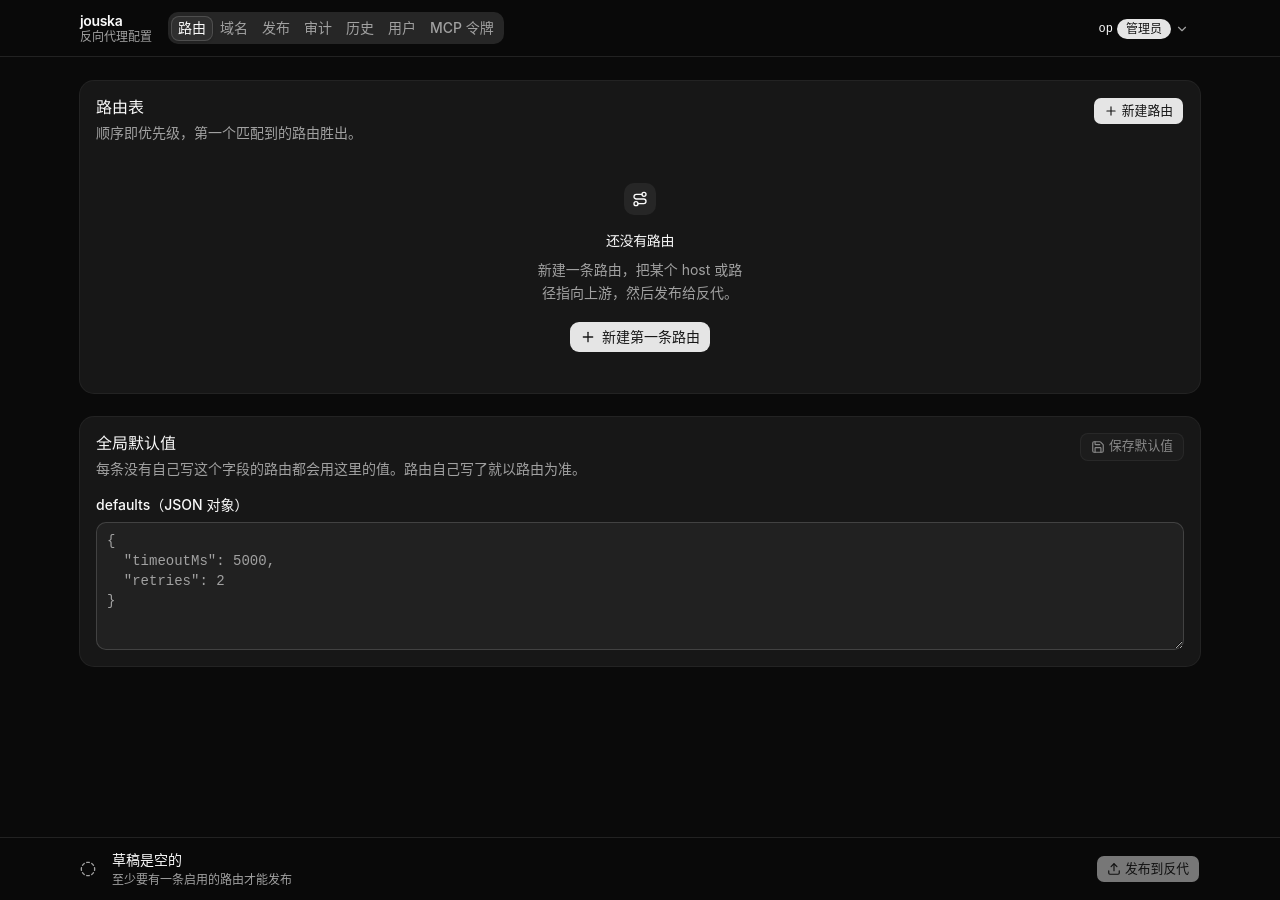
it: App › 账号菜单打得开，身份与退出登录都在里面
Click the button with aria-label "账号菜单": (1144, 28) [1088,14,1200,42]
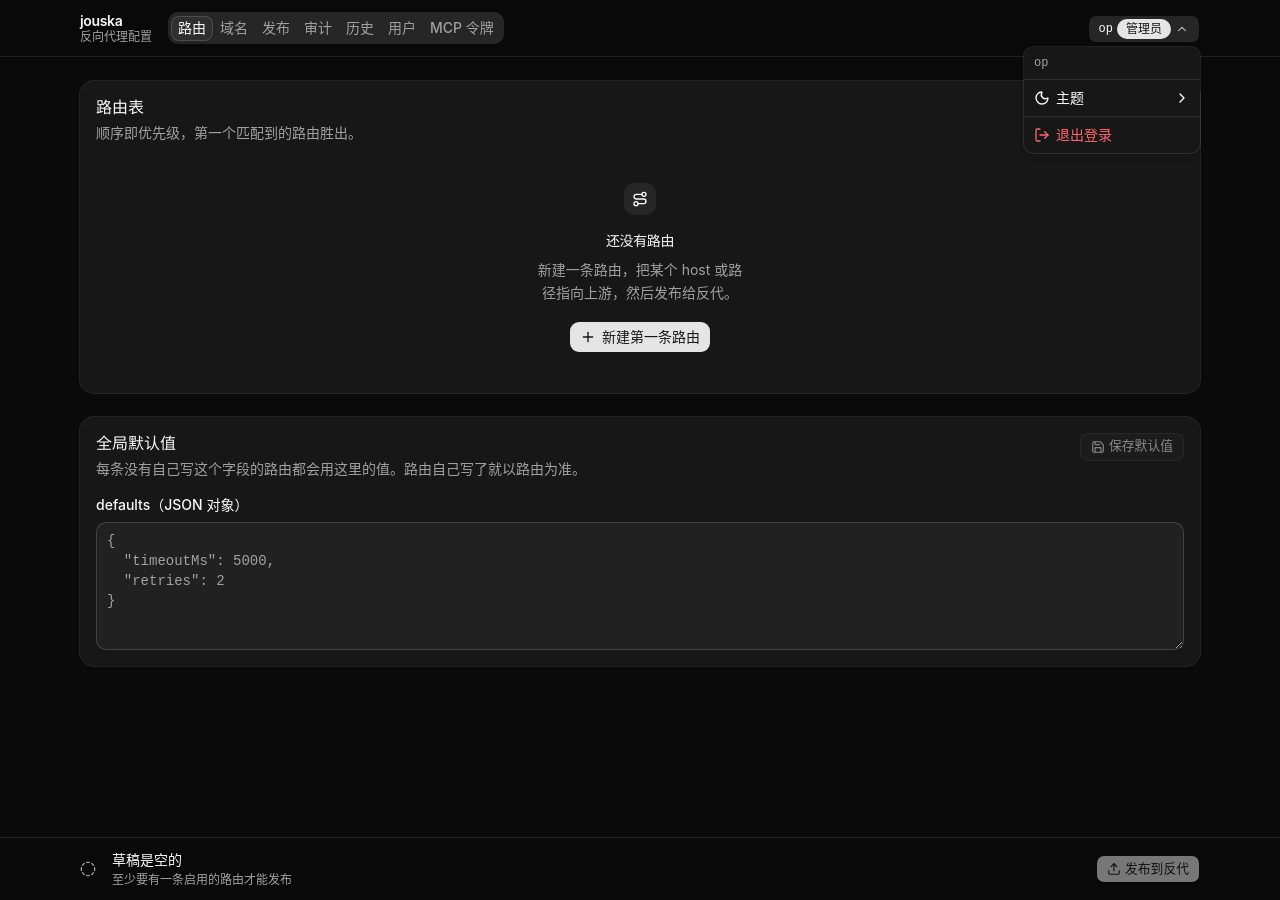
Now the 2nd text "op" is shown, box [1034,56,1048,70]
Now the menu item "退出登录" is shown, box [1034,126,1112,143]
